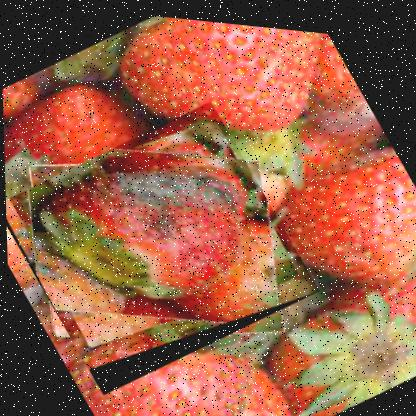strawberry_rotten: (2, 77, 322, 412)
